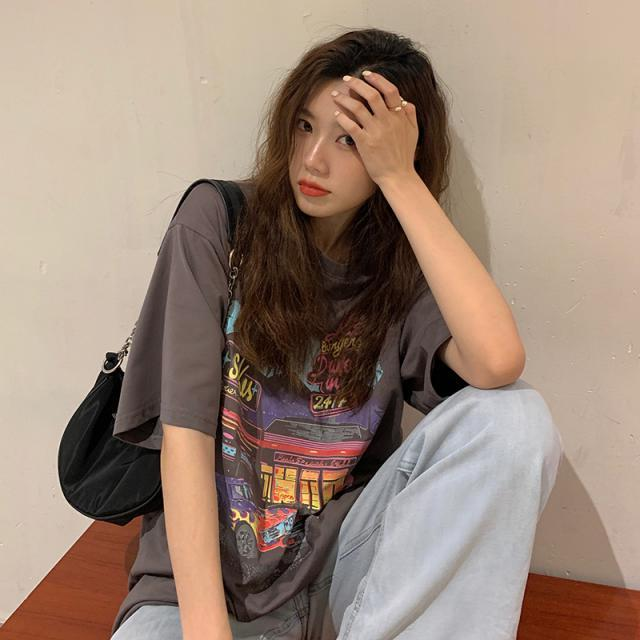Shirt: (112, 178, 446, 612)
